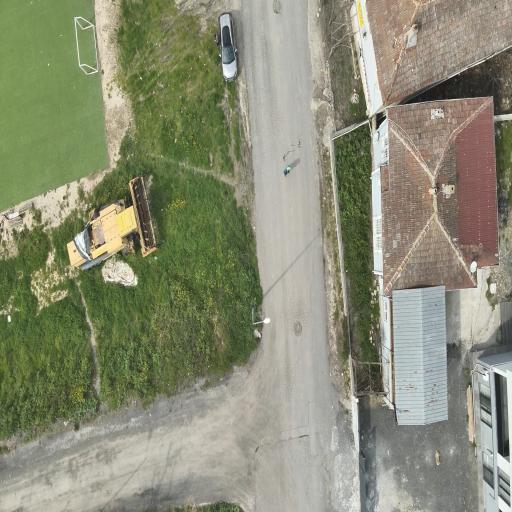car: (218, 13, 236, 81)
harvester: (67, 177, 157, 269)
person: (283, 166, 289, 176), (214, 33, 219, 45)
